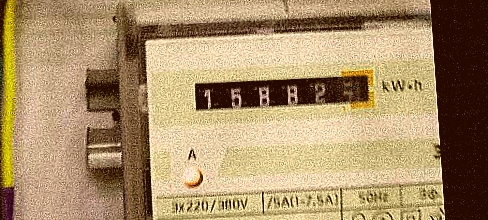1: (200, 85, 216, 108)
2: (311, 80, 329, 105)
5: (228, 84, 244, 109)
7: (341, 85, 355, 103)
8: (284, 82, 300, 107), (256, 84, 271, 108)
screen: (184, 60, 384, 128)
